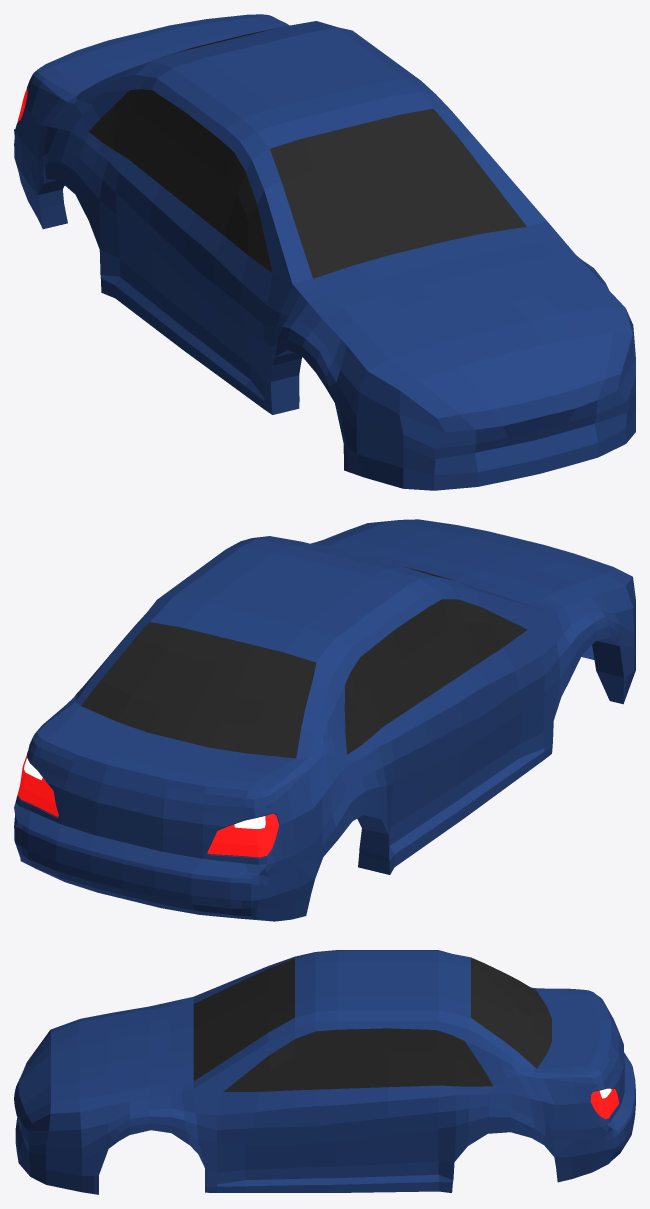
Rendered from car_paint.glb.
3 views of the same model, one above another, from view 1: azimuth 30°, elevation 25°; view 2: azimuth 150°, elevation 25°; view 3: azimuth 270°, elevation 25° (orthographic). The views are drawn at different scales.
Parts seen in each view (by area): view 1: car_paint.002; view 2: car_paint.002; view 3: car_paint.002.
Part boxes in pixels (x1,y1,x2,y2): car_paint.002: (14, 14, 635, 490); car_paint.002: (14, 519, 635, 921); car_paint.002: (14, 950, 635, 1194).
Bounding box in the file's own units: 1.92 × 1.4 × 4.75.
